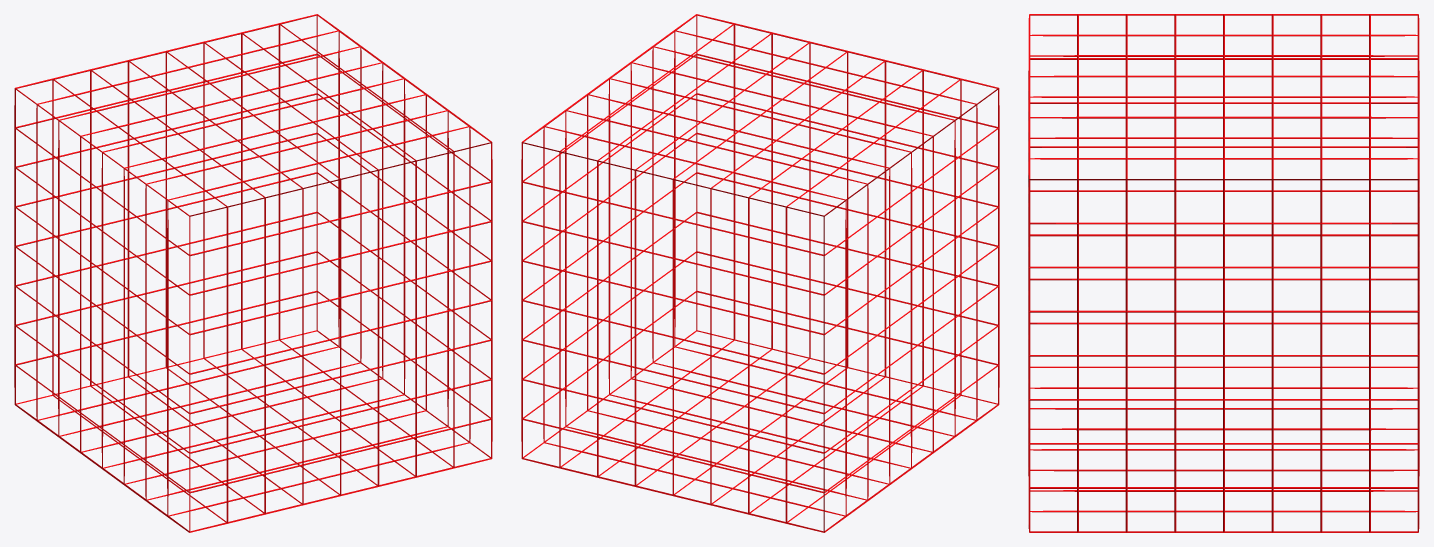
The model's file is HologramSkybox.gltf.
The picture shows the model from 3 angles, left to right: view 1: azimuth 30°, elevation 25°; view 2: azimuth 150°, elevation 25°; view 3: azimuth 270°, elevation 25°; orthographic projection. The views are drawn at different scales.
Visible parts, largest first — view 1: Cube; view 2: Cube; view 3: Cube.
Part boxes in pixels (x1=…): Cube: x1=14, y1=14, x2=492, y2=532; Cube: x1=521, y1=14, x2=999, y2=532; Cube: x1=1028, y1=14, x2=1419, y2=532.
Size of the model in its own units: 2.01 by 2.01 by 2.01.
